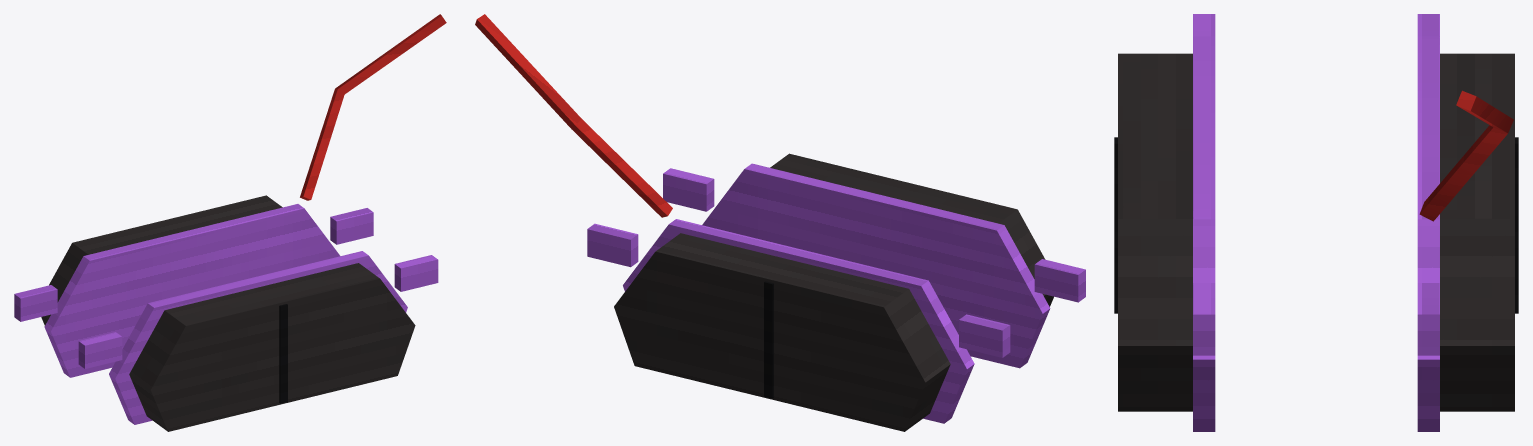
Rendered from pastilhas_n5.glb.
3 renders of one model, left to right at view 1: azimuth 30°, elevation 25°; view 2: azimuth 150°, elevation 25°; view 3: azimuth 270°, elevation 25°, orthographic. The views are drawn at different scales.
Visible parts, largest first — view 1: pastilhas_n5; view 2: pastilhas_n5; view 3: pastilhas_n5.
Boxes of the visible parts, x1,y1,x2,y2 form: pastilhas_n5: (14, 14, 446, 431); pastilhas_n5: (475, 14, 1085, 431); pastilhas_n5: (1114, 14, 1518, 431).
Bounding box in the file's own units: 0.2366 × 0.1333 × 0.108.
Materials: 2 (2 with a texture image).
